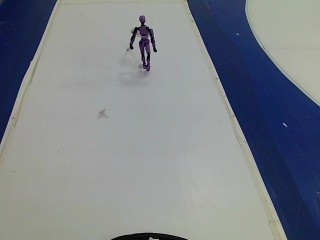pedestrian: (125, 14, 159, 71)
